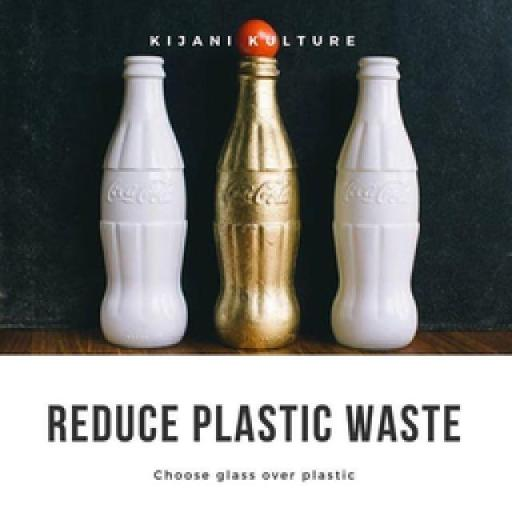plastic: (328, 54, 420, 350), (210, 53, 300, 348), (98, 54, 188, 348)
